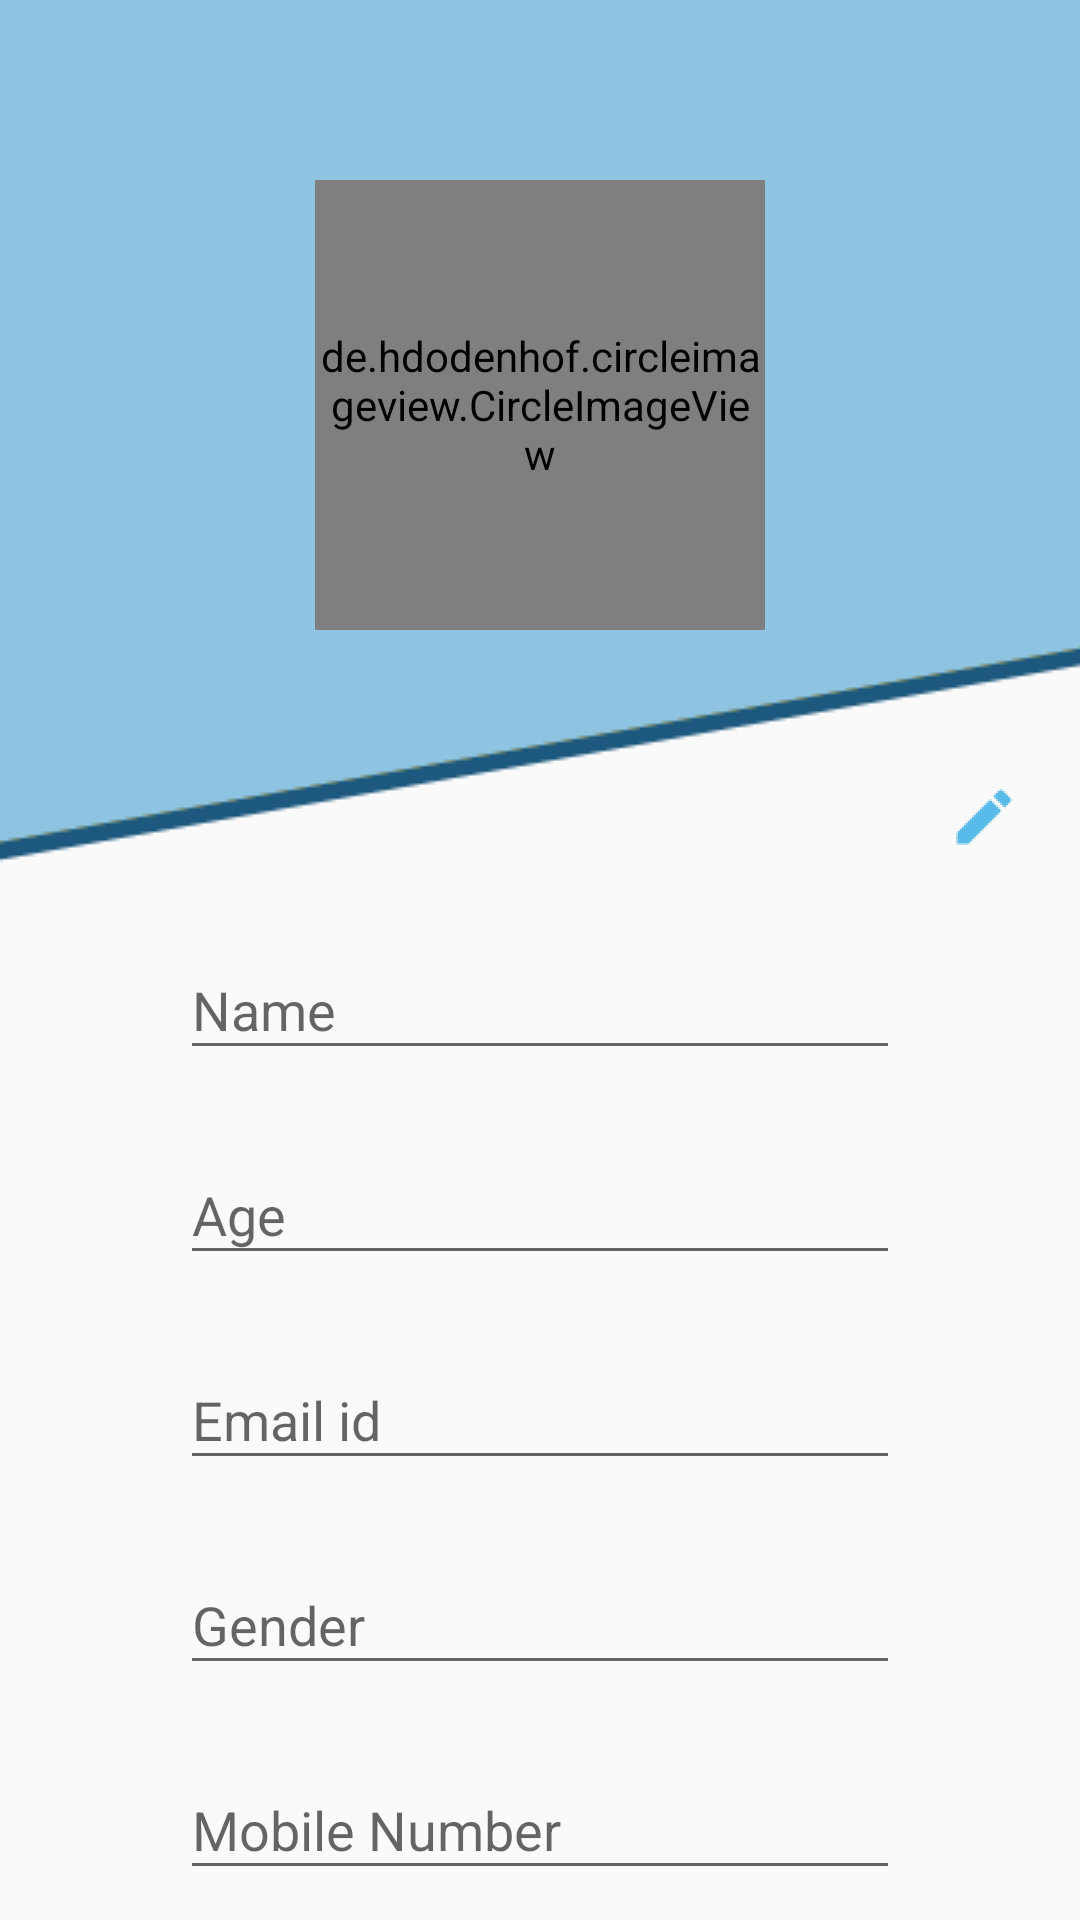

Icon click points for this 1080x1920 phone screenshot, format [x,y]:
edit: [984,817]
